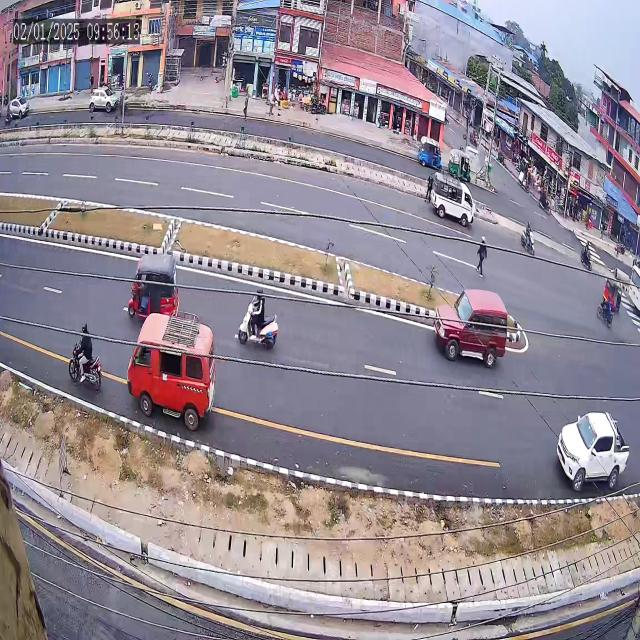auto: (116, 248, 182, 326), (418, 128, 443, 174), (603, 272, 626, 318)
car: (547, 393, 637, 512), (422, 278, 520, 380)
motorcycle: (230, 270, 290, 364), (60, 308, 106, 402), (513, 212, 538, 266), (575, 233, 594, 280)
van: (120, 312, 223, 438), (422, 163, 481, 240)
